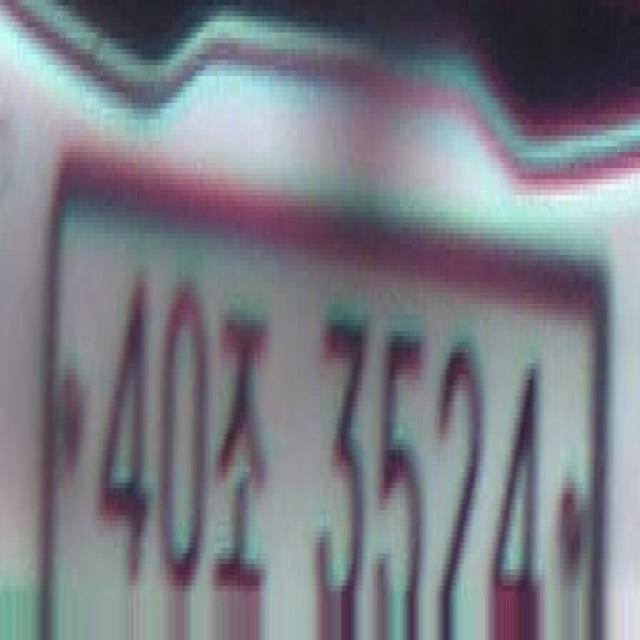0: (156, 271, 210, 608)
2: (434, 325, 484, 640)
3: (313, 293, 368, 634)
4: (94, 272, 153, 580), (488, 347, 546, 640)
5: (377, 293, 429, 640)
jo: (214, 298, 269, 613)
license_plate: (47, 162, 607, 640)
